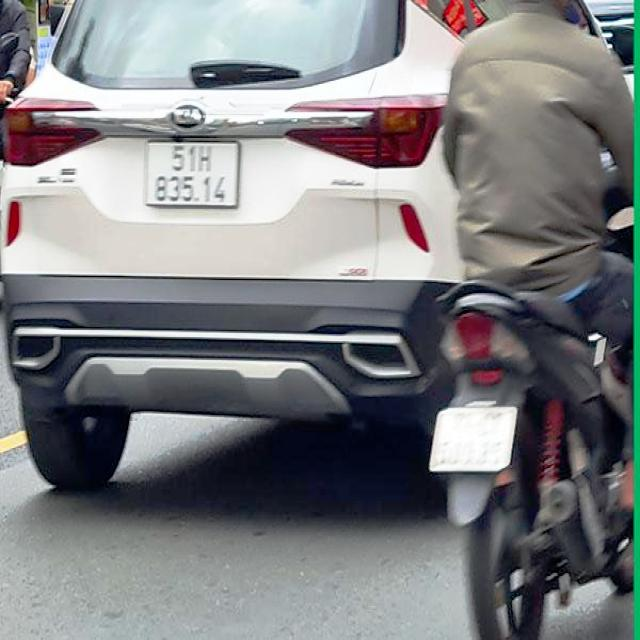license_plate: (148, 144, 241, 210), (432, 407, 515, 472)
